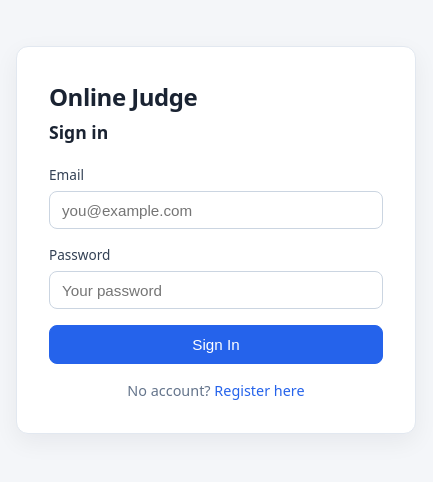
Test: LoginPage › shows error when password is empty
This screenshot has width=433, height=482.
In the field labelled "Email": (216, 210) [49, 191, 383, 229], type "test@test.com"
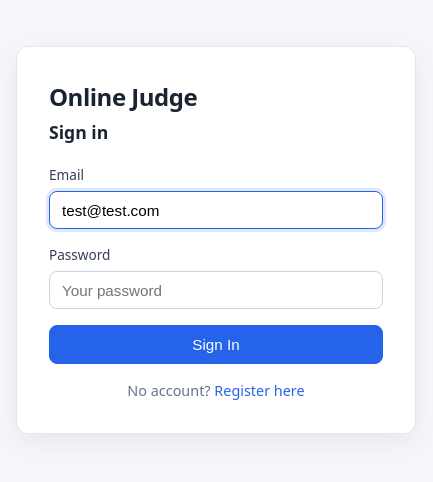
Click the button "Sign In": (216, 345) [49, 326, 383, 364]
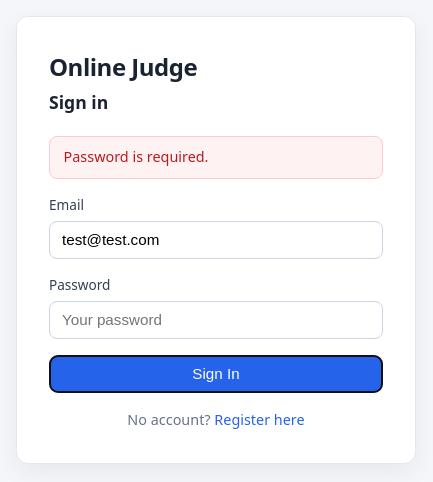
Expected: the text "Password is required." is shown, [49, 136, 383, 178]
